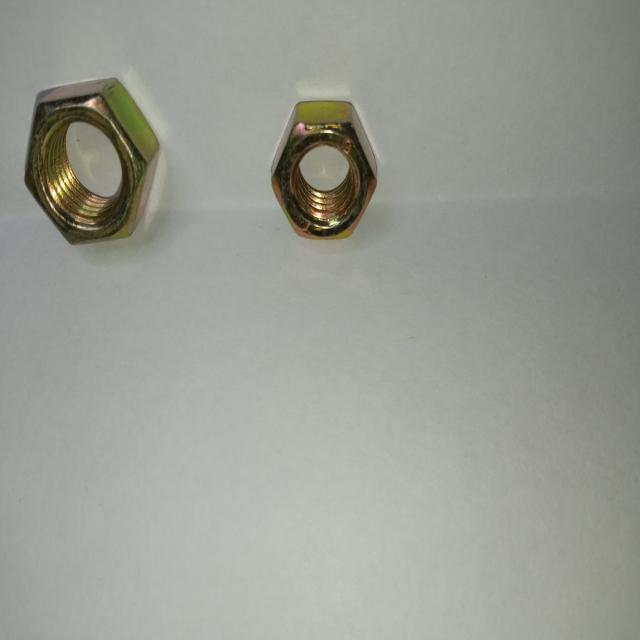m10: (26, 84, 151, 242)
m8: (272, 103, 380, 237)
